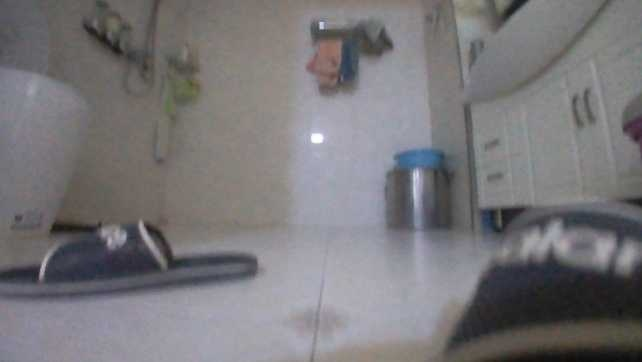slipper: (0, 216, 259, 297)
toilet: (0, 1, 85, 233)
